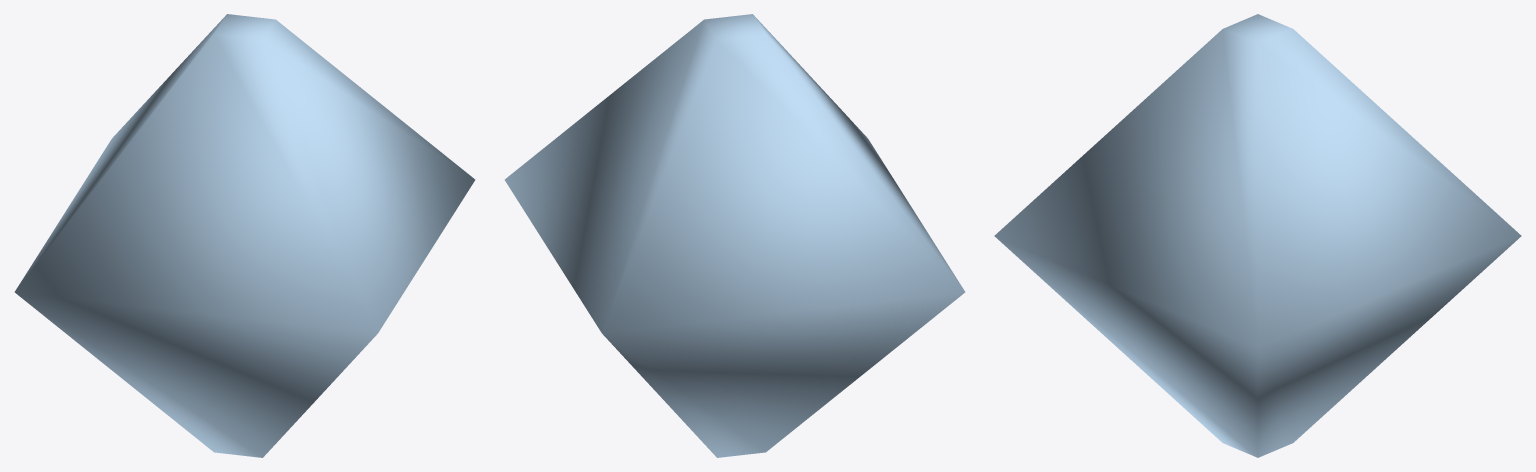
Rendered from alexandrite.glb.
The picture shows the model from 3 angles, left to right: view 1: azimuth 30°, elevation 25°; view 2: azimuth 150°, elevation 25°; view 3: azimuth 270°, elevation 25°; orthographic projection.
Parts seen in each view (by area): view 1: alexandrite; view 2: alexandrite; view 3: alexandrite.
Part boxes in pixels (<box>): alexandrite: <box>14,14,475,457</box>; alexandrite: <box>504,14,965,457</box>; alexandrite: <box>994,14,1521,457</box>.
Bounding box in the file's own units: 1.39 × 1.2 × 1.39.
